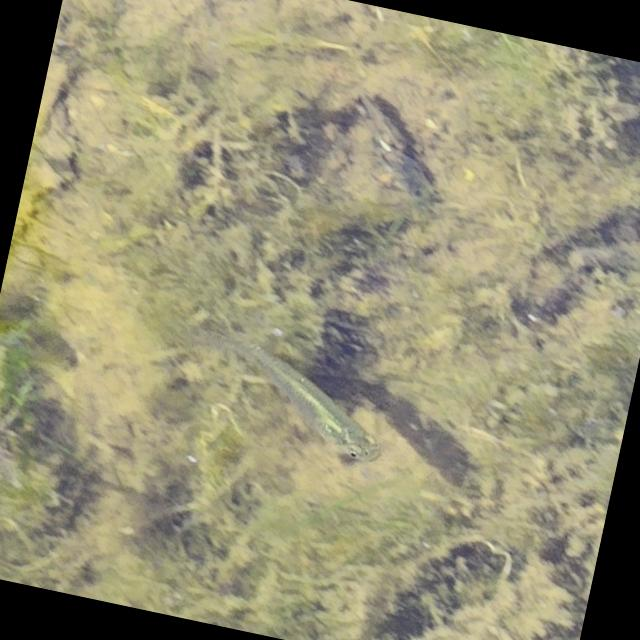Sivrisinek Baligi: (170, 305, 406, 469)
